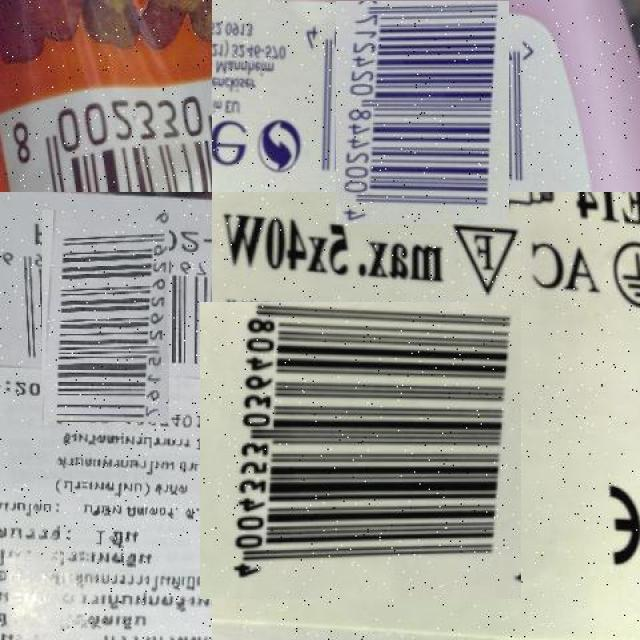Barcode: (206, 295, 515, 605), (319, 3, 525, 208), (0, 37, 212, 192), (21, 231, 191, 401)
